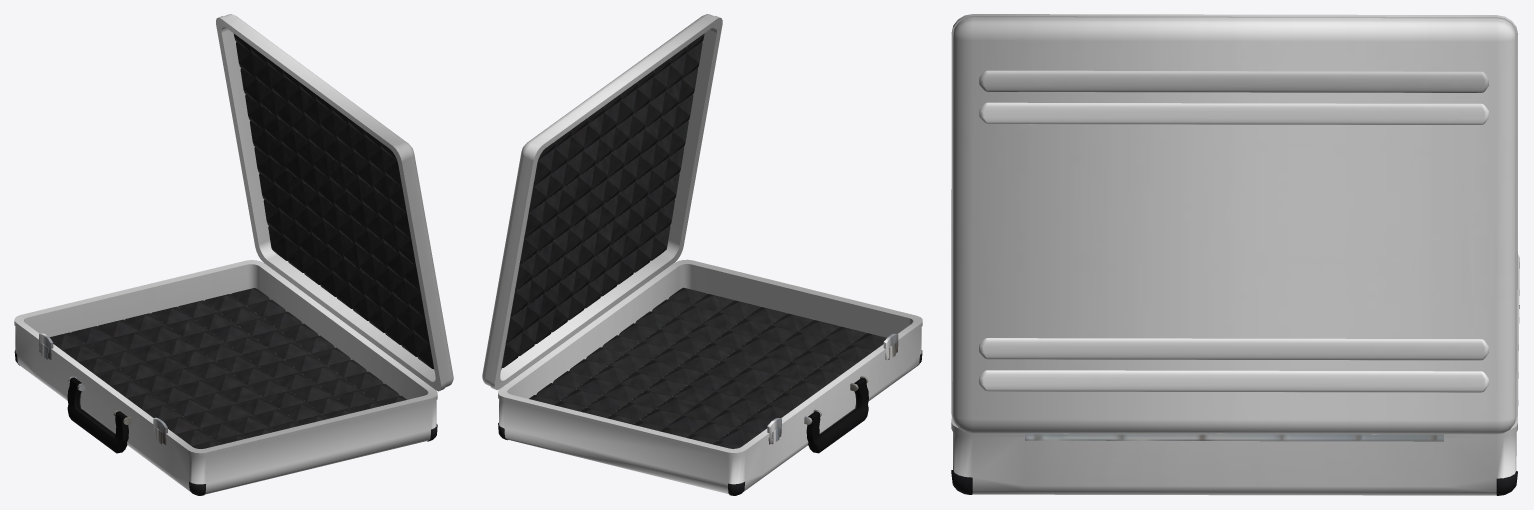
The model's file is cacciaviti3.gltf.
The picture shows the model from 3 angles, left to right: view 1: azimuth 30°, elevation 25°; view 2: azimuth 150°, elevation 25°; view 3: azimuth 270°, elevation 25°; orthographic projection. The views are drawn at different scales.
Parts seen in each view (by area): view 1: Assistenza Tecnica Valigetta Bassa, Assistenza Tecnica Valigetta Alta; view 2: Assistenza Tecnica Valigetta Bassa, Assistenza Tecnica Valigetta Alta; view 3: Assistenza Tecnica Valigetta Alta, Assistenza Tecnica Valigetta Bassa.
Boxes of the visible parts, x1,y1,x2,y2 form: Assistenza Tecnica Valigetta Bassa: (14,260,437,495); Assistenza Tecnica Valigetta Alta: (216,14,453,391); Assistenza Tecnica Valigetta Bassa: (498,259,922,495); Assistenza Tecnica Valigetta Alta: (482,14,722,390); Assistenza Tecnica Valigetta Alta: (951,14,1517,434); Assistenza Tecnica Valigetta Bassa: (951,254,1519,495).
Bounding box in the file's own units: 0.2923 × 0.3115 × 0.349.
Materials: 1 (1 with a texture image).
